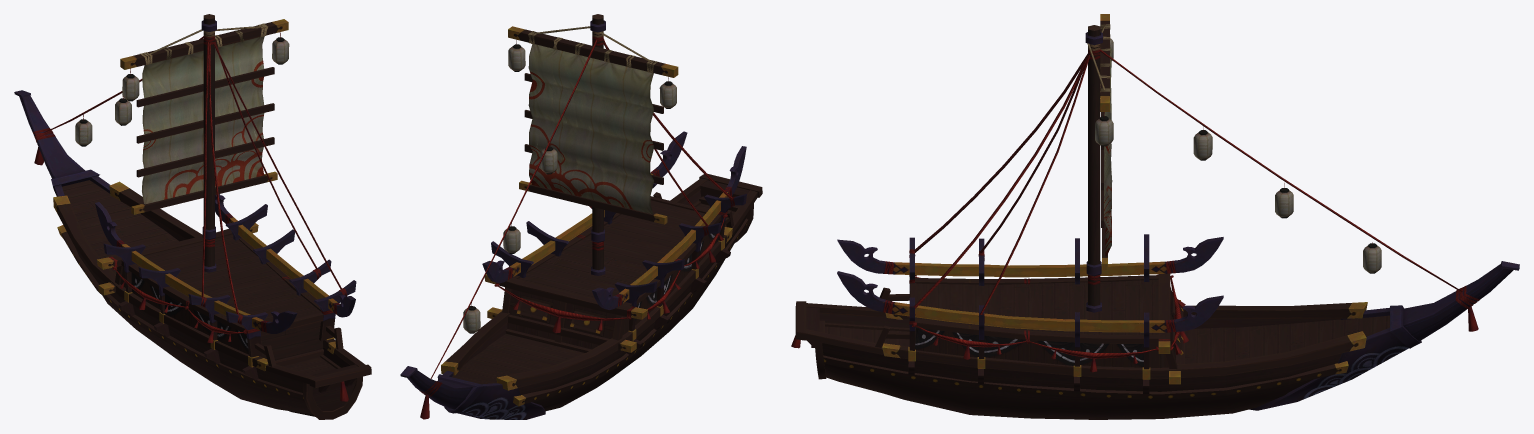
The model's file is boat.glb.
3 renders of one model, left to right at view 1: azimuth 30°, elevation 25°; view 2: azimuth 150°, elevation 25°; view 3: azimuth 270°, elevation 25°, orthographic. The views are drawn at different scales.
Visible parts, largest first — view 1: Object001_Material #25_0; view 2: Object001_Material #25_0; view 3: Object001_Material #25_0.
Part boxes in pixels (x1,y1,x2,y2): Object001_Material #25_0: (14,14,371,419); Object001_Material #25_0: (400,14,762,419); Object001_Material #25_0: (791,14,1519,419).
Size of the model in its own units: 15.28 by 30.63 by 52.83.
1 material, 1 textured.
